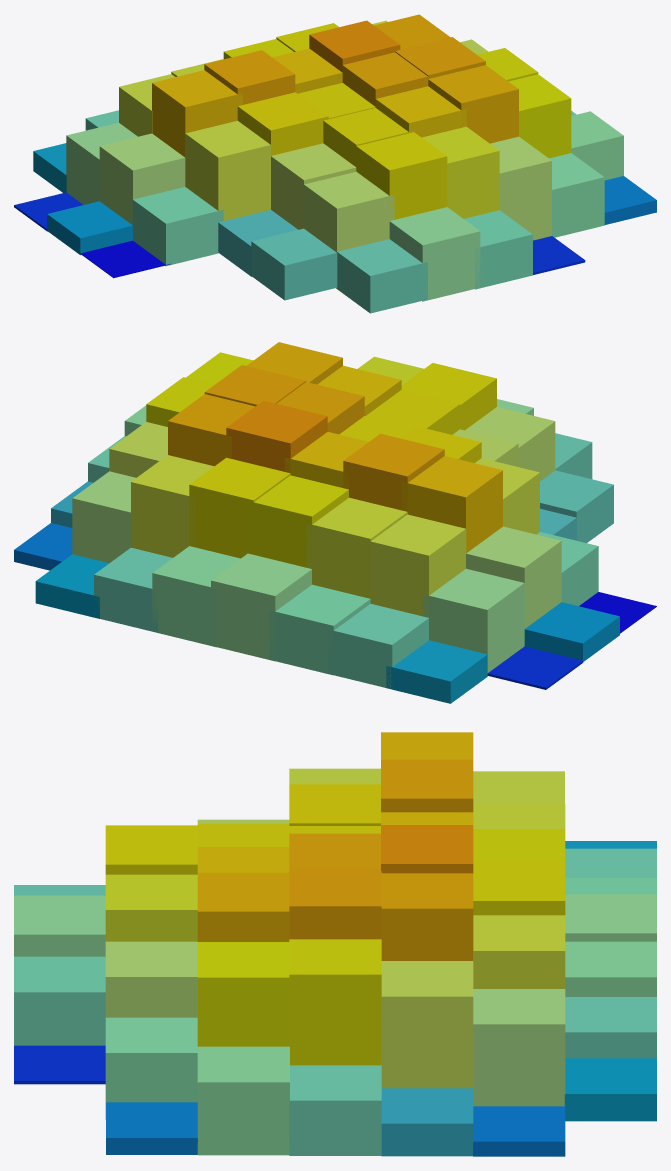
File: population.glb
The picture shows the model from 3 angles, top to bottom: view 1: azimuth 30°, elevation 25°; view 2: azimuth 150°, elevation 25°; view 3: azimuth 270°, elevation 25°; orthographic projection. The views are drawn at different scales.
Visible parts, largest first — view 1: population; view 2: population; view 3: population.
Boxes of the visible parts, left/top/right/bottom form: population: left=14, top=14, right=656, bottom=313; population: left=14, top=342, right=656, bottom=703; population: left=14, top=732, right=656, bottom=1156.
Bounding box in the file's own units: 828 × 223 × 697.
